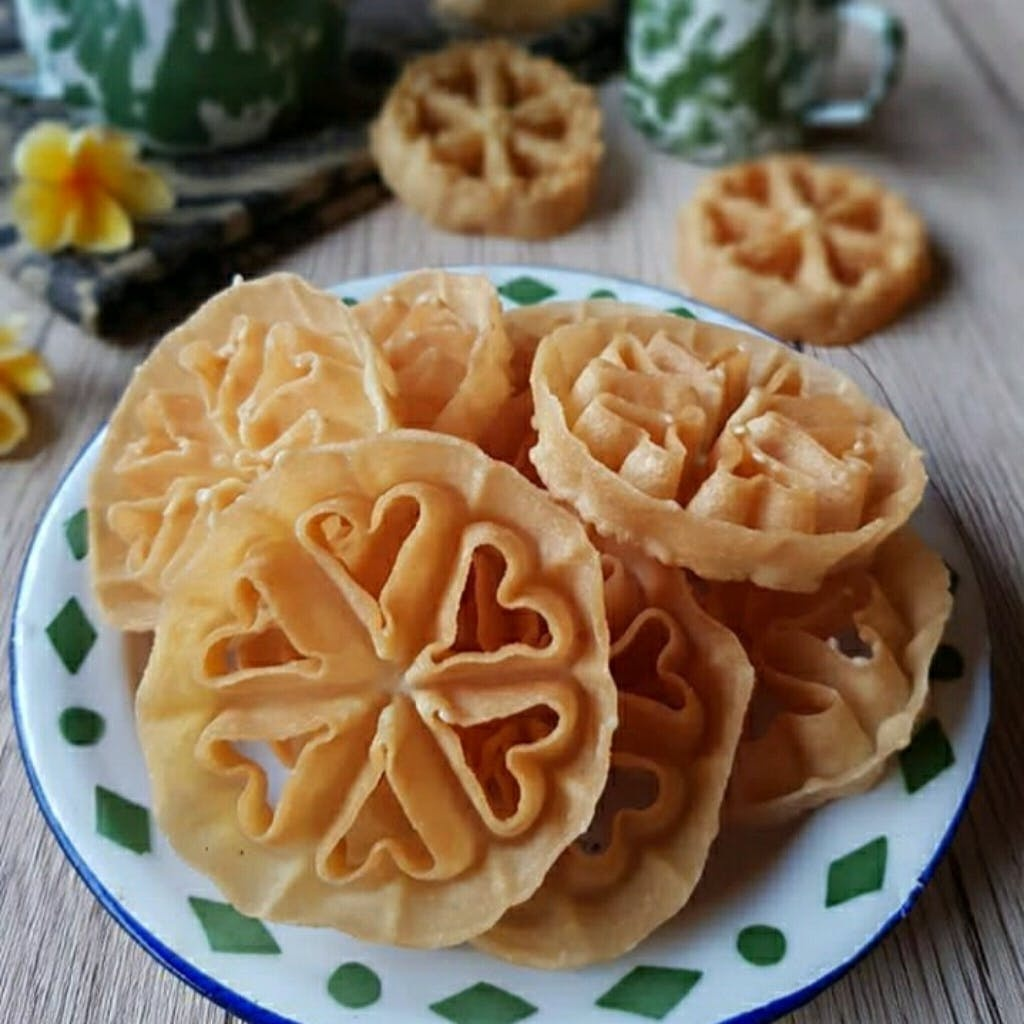kembang_goyang: (135, 434, 646, 953)
